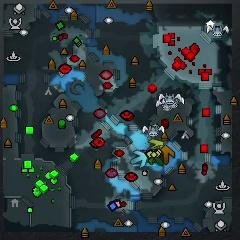x2: (149, 138, 164, 149)
x3: (131, 150, 147, 168)
x4: (149, 157, 162, 166)
x5: (160, 145, 175, 165)
